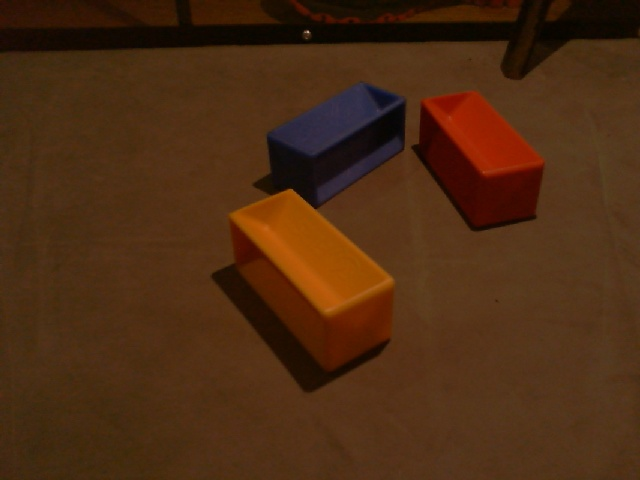BlueSample: (264, 79, 408, 207)
RedSample: (417, 87, 549, 234)
YellowSample: (224, 187, 394, 371)
